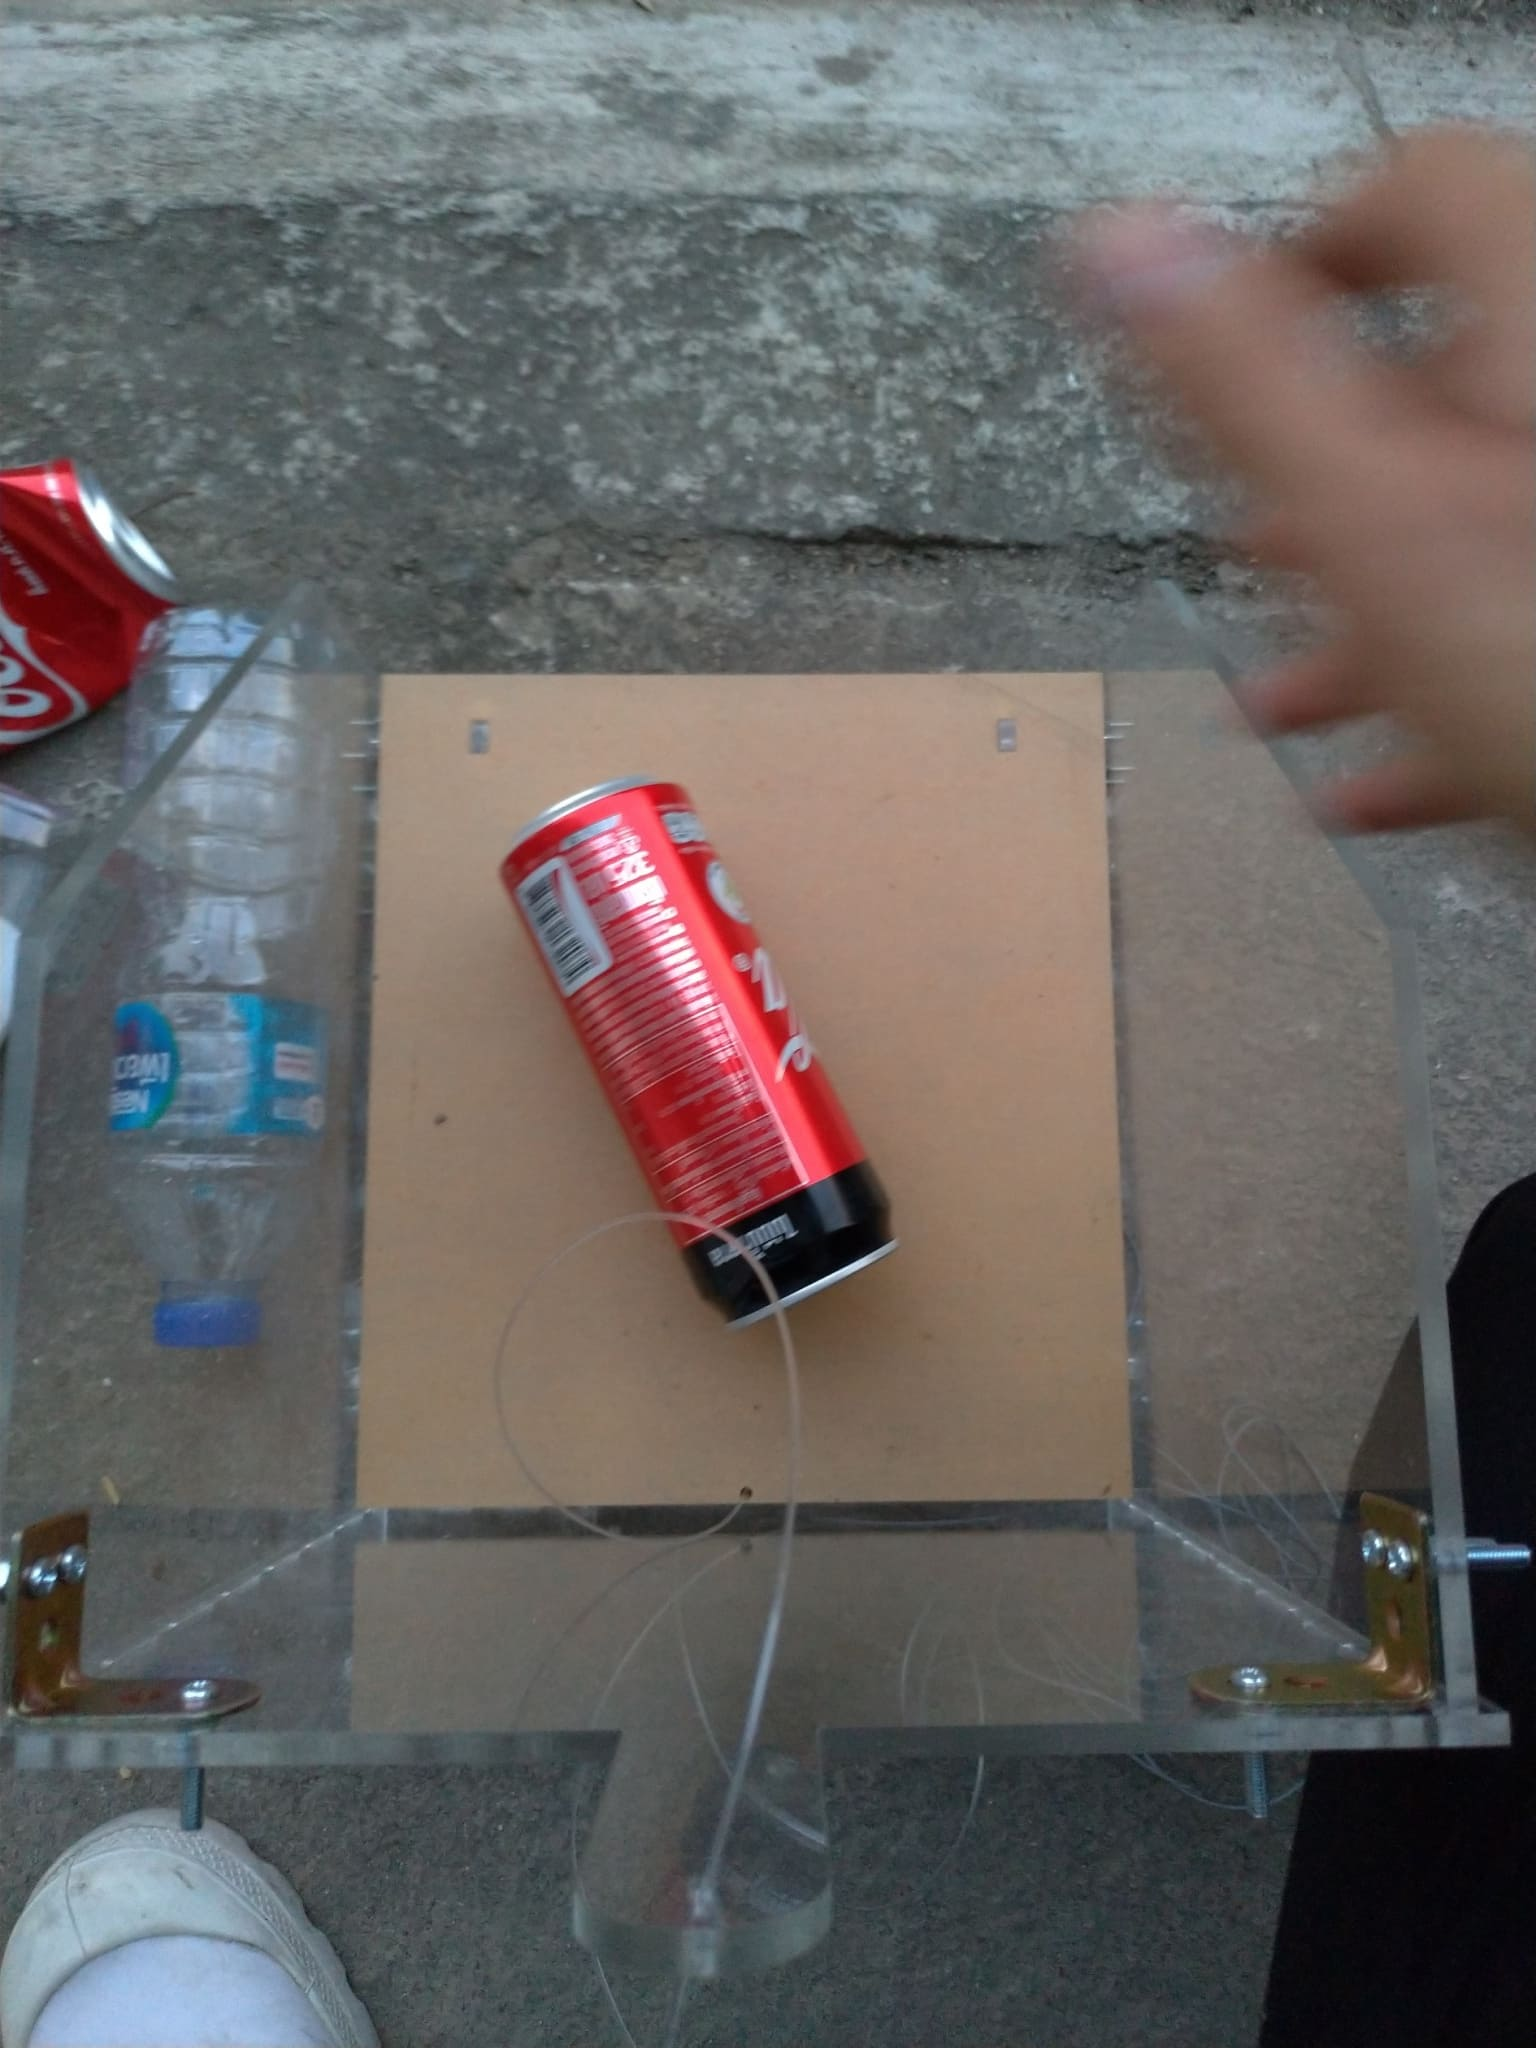AlCan: (497, 777, 900, 1334), (2, 464, 179, 772)
PlasticBottle: (106, 611, 323, 1348)
